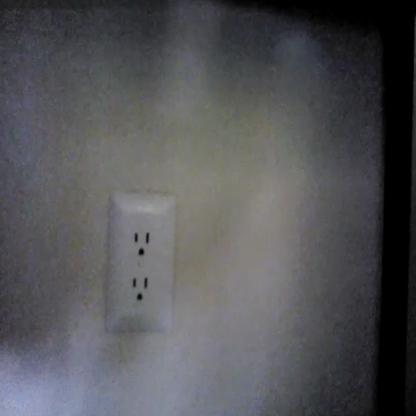OUTLET: (107, 192, 174, 334)
